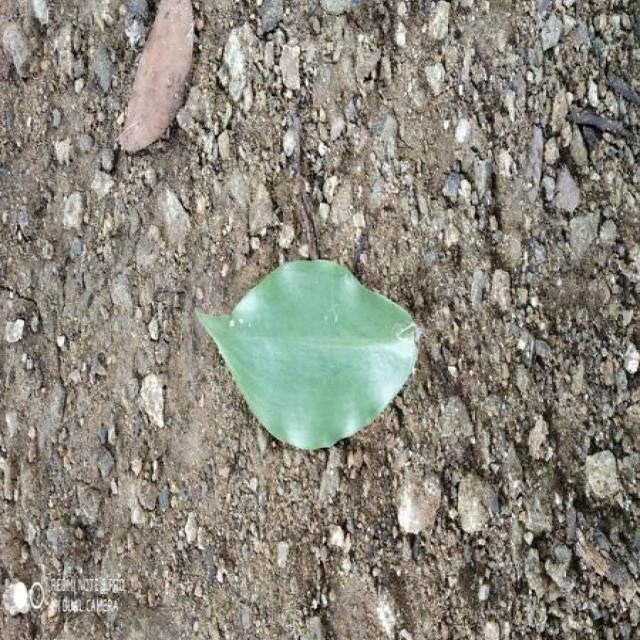insulin: (198, 260, 417, 449)
